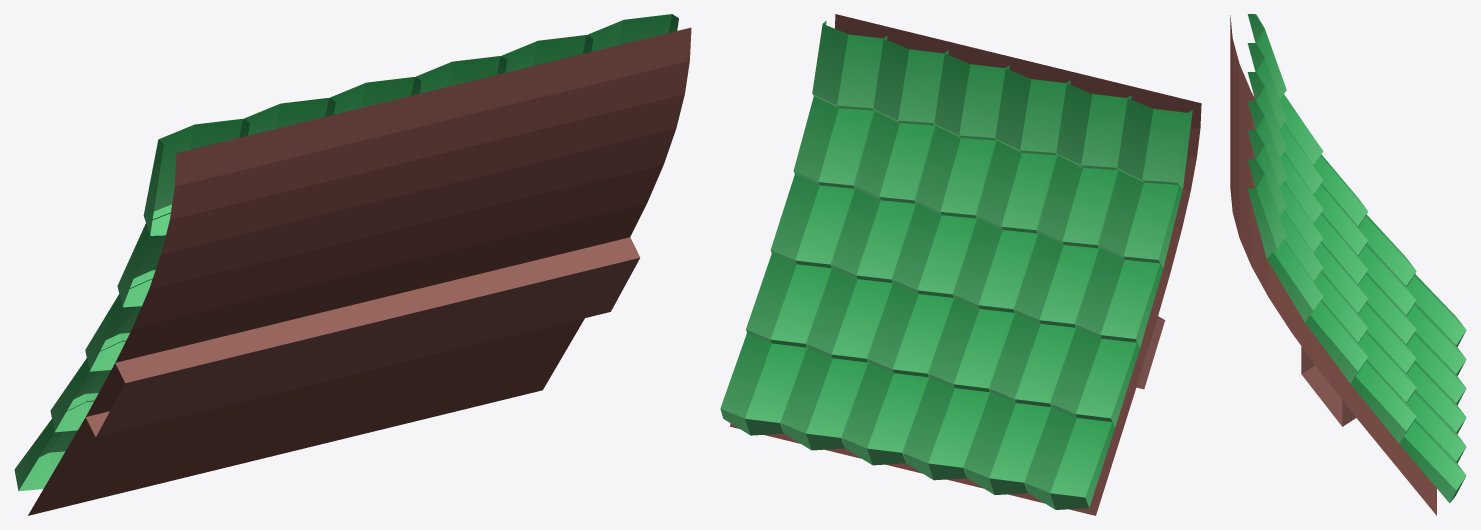
File: RoofPlane_5.fbx
3 renders of one model, left to right at view 1: azimuth 30°, elevation 25°; view 2: azimuth 150°, elevation 25°; view 3: azimuth 270°, elevation 25°, orthographic. The views are drawn at different scales.
Visible parts, largest first — view 1: RoofPlane_5; view 2: RoofPlane_5; view 3: RoofPlane_5.
Boxes of the visible parts, x1,y1,x2,y2 form: RoofPlane_5: (14, 14, 691, 515); RoofPlane_5: (720, 14, 1201, 515); RoofPlane_5: (1230, 14, 1466, 515).
Size of the model in its own units: 2.4 by 1.37 by 2.1.
